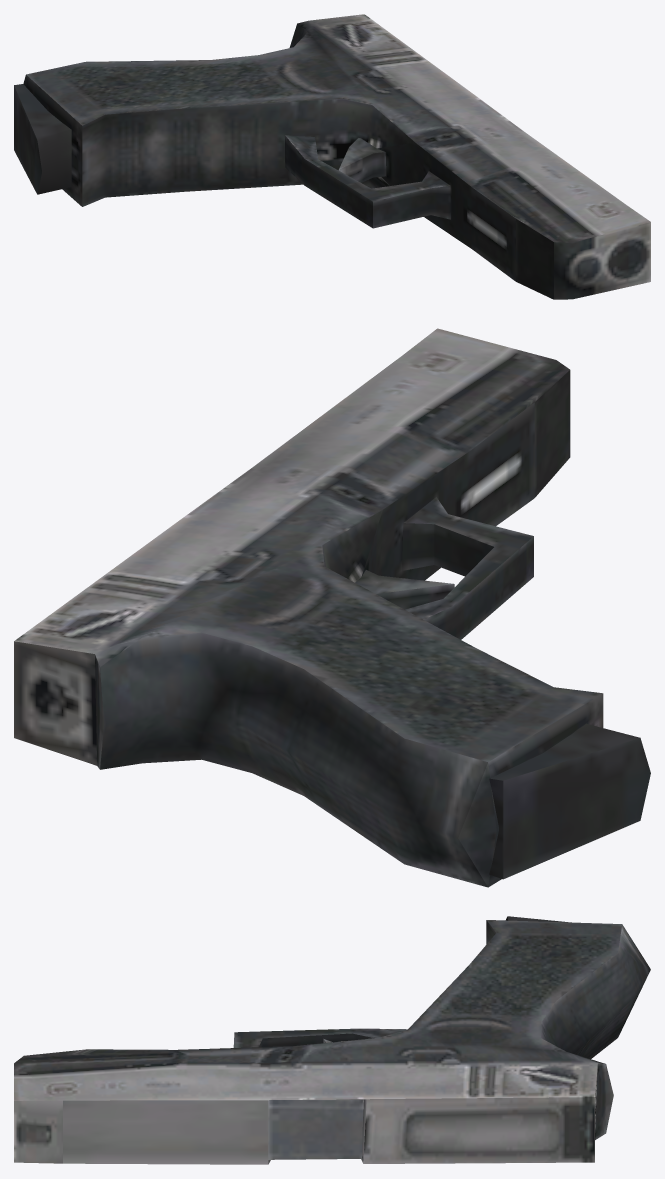
Rendered from Pickup_WeaponSq01.glb.
3 views of the same model, one above another, from view 1: azimuth 30°, elevation 25°; view 2: azimuth 150°, elevation 25°; view 3: azimuth 270°, elevation 25° (orthographic). The views are drawn at different scales.
Visible parts, largest first — view 1: pk_weapon_sq01; view 2: pk_weapon_sq01; view 3: pk_weapon_sq01.
Boxes of the visible parts, bbox=[...] form: pk_weapon_sq01: bbox=[14, 14, 650, 299]; pk_weapon_sq01: bbox=[14, 328, 650, 887]; pk_weapon_sq01: bbox=[14, 916, 650, 1164].
Bounding box in the file's own units: 0.7185 × 0.1533 × 1.03.
1 material, 1 textured.
